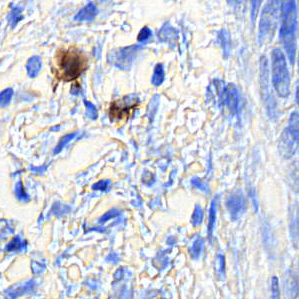Lymphocyte: (50, 44, 91, 86)
